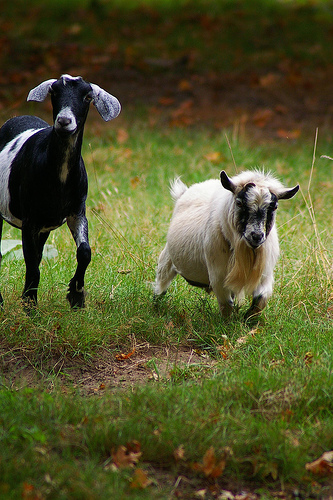goat: (1, 74, 122, 314), (149, 166, 302, 329)
